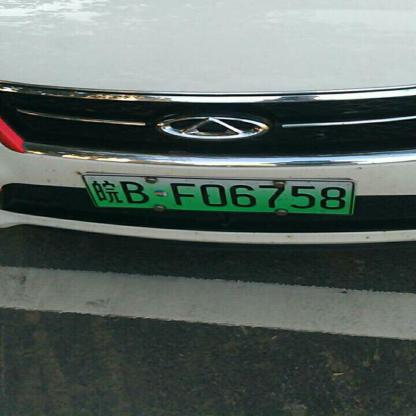lp: (83, 174, 354, 214)
